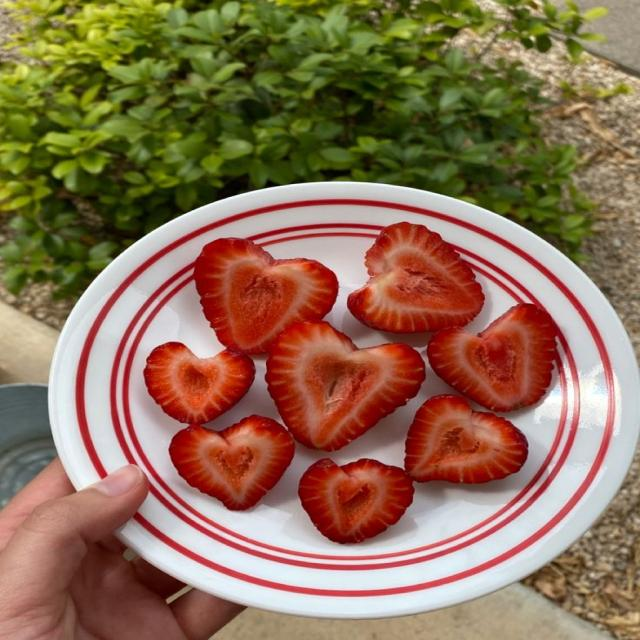strawberry sliced: (266, 322, 425, 450), (194, 238, 338, 353), (347, 222, 484, 332), (427, 304, 557, 411), (169, 415, 294, 510), (405, 395, 527, 483), (299, 459, 413, 543), (144, 342, 254, 423)
